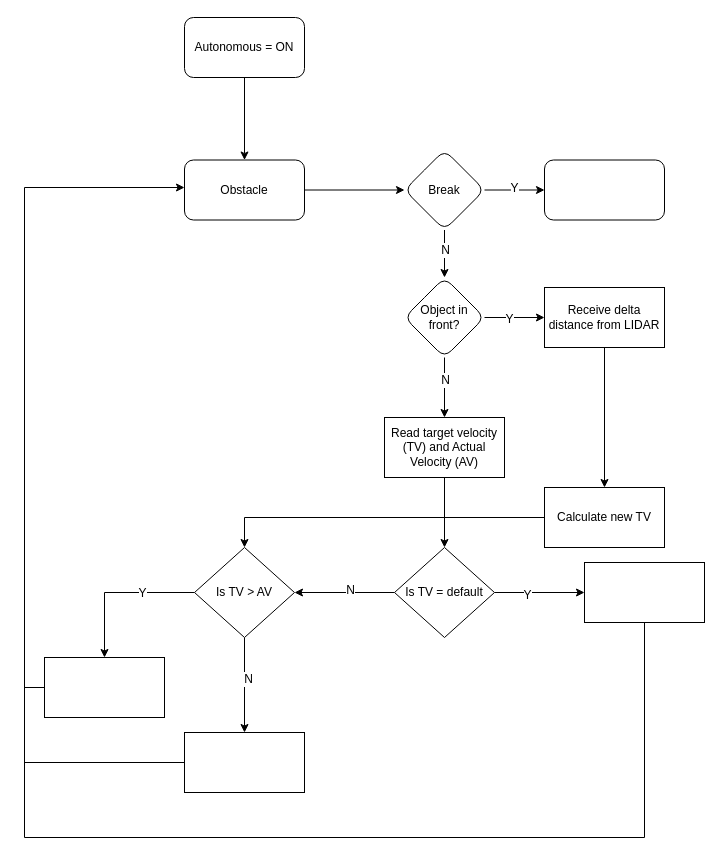
This 722x863 diagram has some shape labels left out. Here are the shapes that lost their labels. From the top down, the box of each, then its label:
(544, 159, 664, 220): Autonomous = OFF
(584, 562, 704, 622): Mantain Speed
(44, 656, 164, 718): Increase Speed
(184, 732, 304, 792): Decrease Speed
